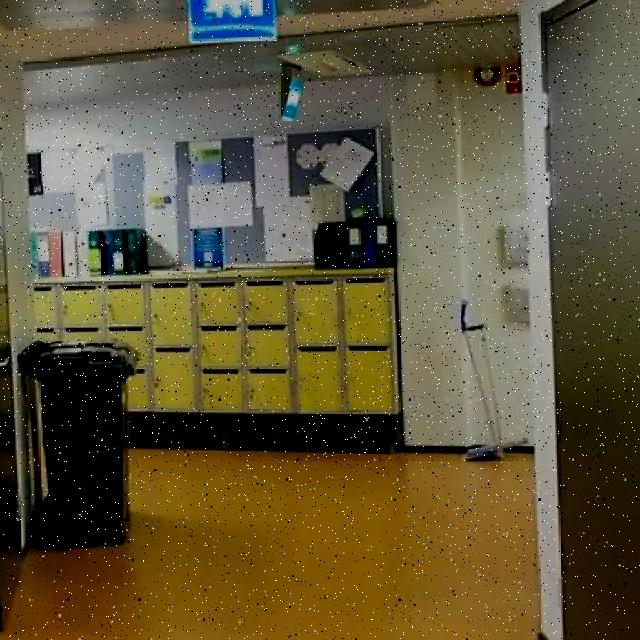emergency_exit: (186, 0, 279, 44)
